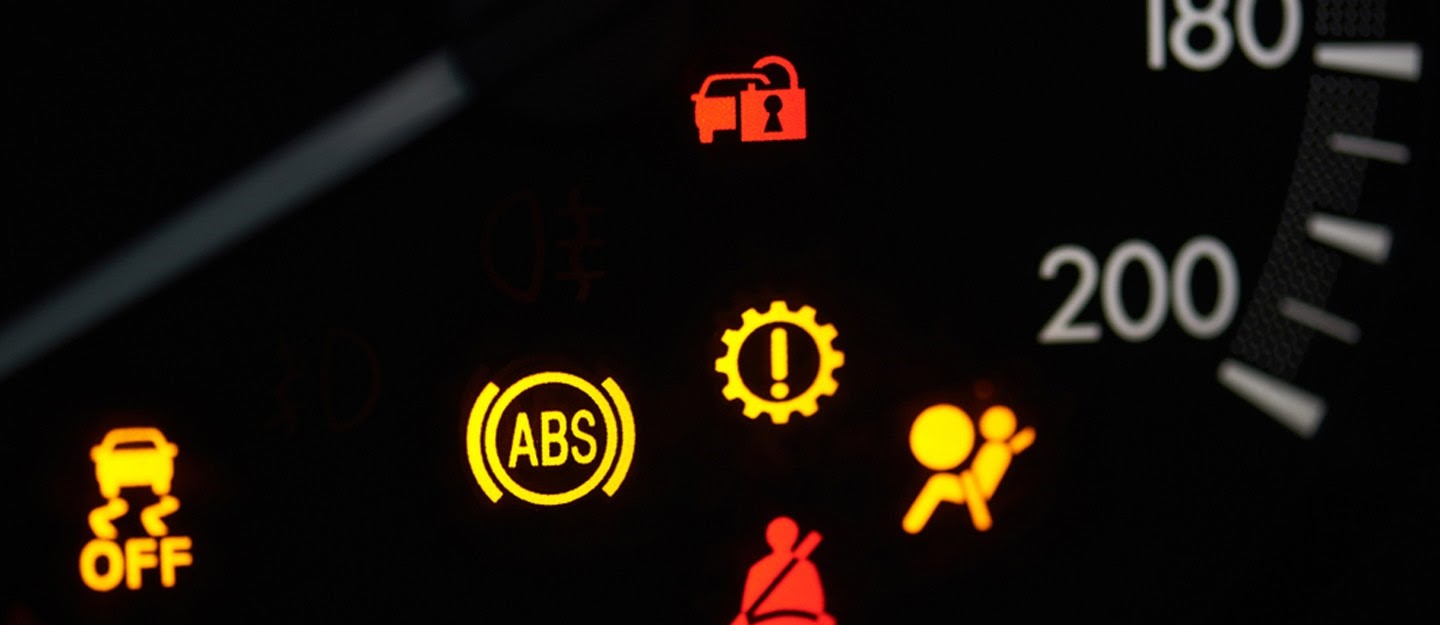ABS: (445, 367, 649, 514)
